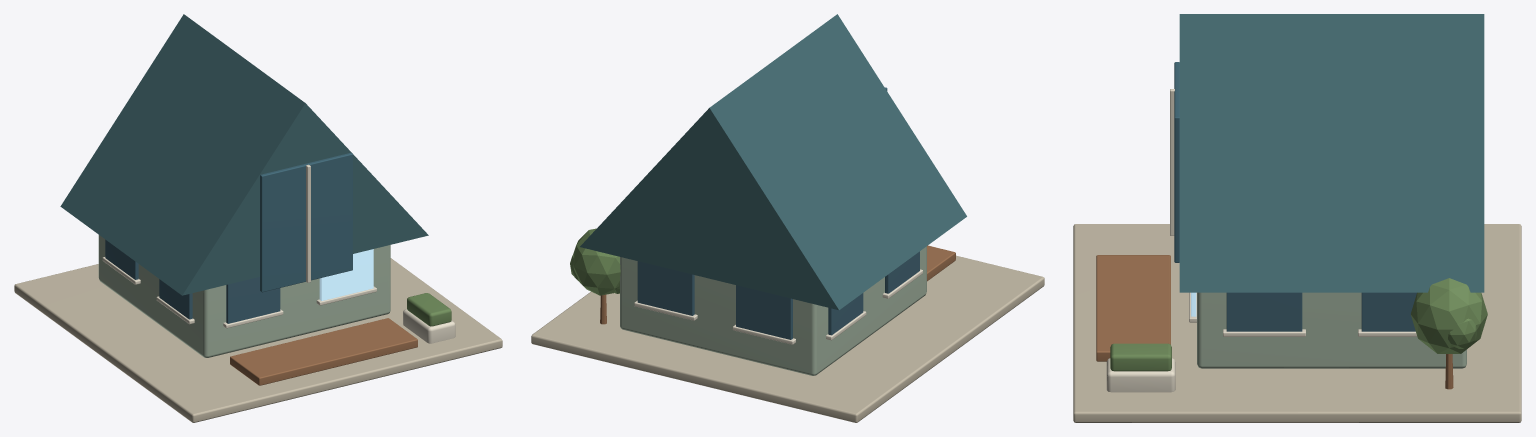
The model's file is sage-house.glb.
The picture shows the model from 3 angles, left to right: view 1: azimuth 30°, elevation 25°; view 2: azimuth 150°, elevation 25°; view 3: azimuth 270°, elevation 25°; orthographic projection. The views are drawn at different scales.
Parts seen in each view (by area): view 1: sage_house_Gable_Roof, sage_house_Site_Paving, sage_house_Building_Volume, sage_house_Gable_Glass, sage_house_Timber_Porch, sage_house_Window_Recess.001, sage_house_Window_Recess.003, sage_house_Hedge, sage_house_Raised_Planter, sage_house_Window_Recess.006, sage_house_Window_Recess.004, sage_house_Gable_Frame; view 2: sage_house_Gable_Roof, sage_house_Site_Paving, sage_house_Building_Volume, sage_house_Window_Recess.002, sage_house_Window_Recess, sage_house_Tree_Crown, sage_house_Window_Recess.004, sage_house_Window_Recess.006, sage_house_Timber_Porch; view 3: sage_house_Gable_Roof, sage_house_Site_Paving, sage_house_Building_Volume, sage_house_Timber_Porch, sage_house_Tree_Crown, sage_house_Window_Recess.007, sage_house_Window_Recess.005, sage_house_Hedge, sage_house_Raised_Planter, sage_house_Gable_Glass, sage_house_Gable_Frame, sage_house_Tree_Crown.002 (+1 smaller).
Part boxes in pixels (x1,y1,x2,y2): sage_house_Gable_Roof: (60,14,428,295); sage_house_Site_Paving: (14,258,502,422); sage_house_Building_Volume: (98,235,390,357); sage_house_Gable_Glass: (260,152,352,292); sage_house_Timber_Porch: (230,318,417,385); sage_house_Window_Recess.001: (226,277,280,323); sage_house_Window_Recess.003: (319,249,373,300); sage_house_Hedge: (407,293,451,326); sage_house_Raised_Planter: (403,309,455,343); sage_house_Window_Recess.006: (159,279,192,319); sage_house_Window_Recess.004: (105,239,138,279); sage_house_Gable_Frame: (306,164,310,282); sage_house_Gable_Roof: (580,14,966,309); sage_house_Site_Paving: (531,255,1044,422); sage_house_Building_Volume: (620,246,926,375); sage_house_Window_Recess.002: (637,261,694,315); sage_house_Window_Recess: (736,285,792,339); sage_house_Tree_Crown: (573,228,620,295); sage_house_Window_Recess.004: (828,293,863,335); sage_house_Window_Recess.006: (885,251,919,293); sage_house_Timber_Porch: (927,245,955,281); sage_house_Gable_Roof: (1179,14,1484,292); sage_house_Site_Paving: (1073,224,1521,422); sage_house_Building_Volume: (1197,292,1466,368); sage_house_Timber_Porch: (1096,255,1170,361); sage_house_Tree_Crown: (1410,278,1487,353); sage_house_Window_Recess.007: (1226,292,1302,331); sage_house_Window_Recess.005: (1361,292,1416,331); sage_house_Hedge: (1110,343,1171,371); sage_house_Raised_Planter: (1106,358,1175,392); sage_house_Gable_Glass: (1174,62,1179,262); sage_house_Gable_Frame: (1170,89,1174,235); sage_house_Tree_Crown.002: (1448,318,1476,348).
Bounding box in the file's own units: 7.8 × 6.05 × 7.8.
